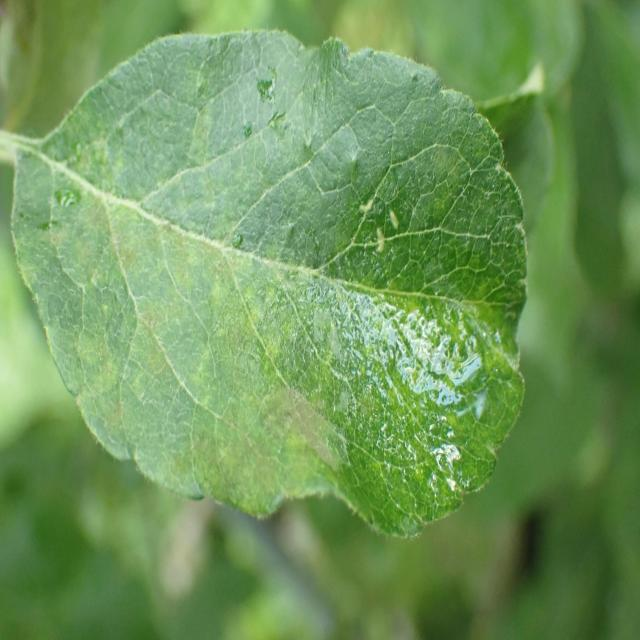scab: (20, 70, 526, 516)
